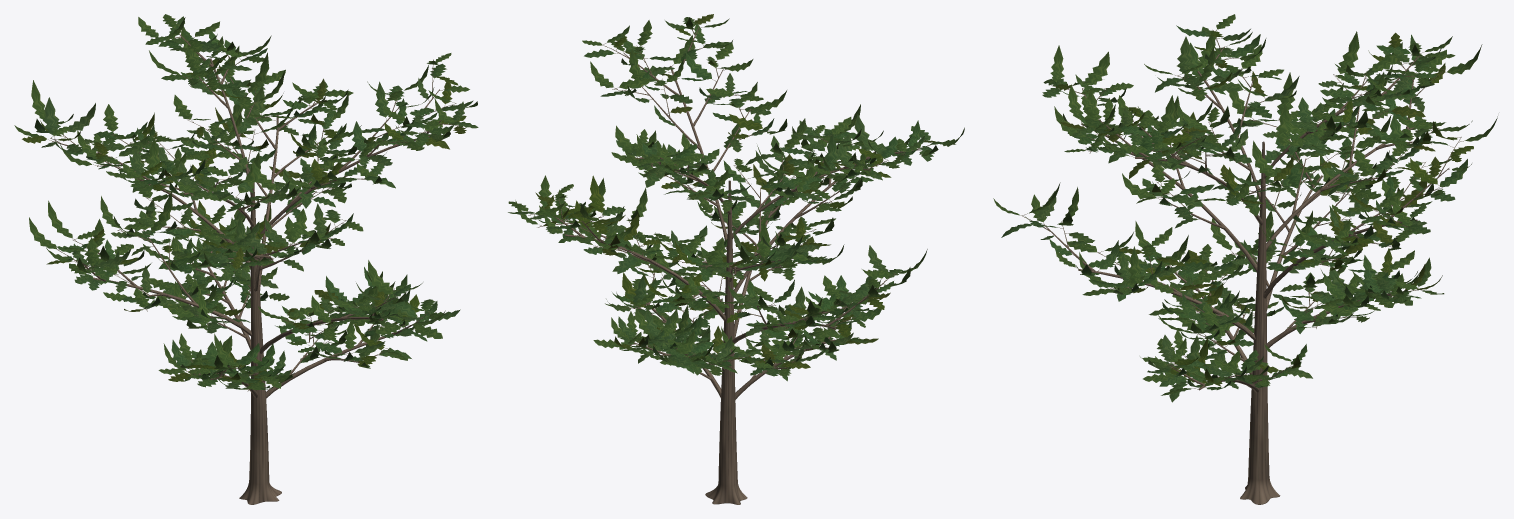
The model's file is m-oak.glb.
3 views of the same model, side by side, from view 1: azimuth 30°, elevation 25°; view 2: azimuth 150°, elevation 25°; view 3: azimuth 270°, elevation 25° (orthographic). The views are drawn at different scales.
Visible parts, largest first — view 1: Foliage, Bark; view 2: Foliage, Bark; view 3: Foliage, Bark.
Boxes of the visible parts, x1=… form: Foliage: x1=14, y1=14, x2=478, y2=390; Bark: x1=48, y1=29, x2=458, y2=504; Foliage: x1=508, y1=14, x2=964, y2=381; Bark: x1=528, y1=27, x2=931, y2=504; Foliage: x1=993, y1=14, x2=1497, y2=402; Bark: x1=1021, y1=30, x2=1463, y2=504.
Bounding box in the file's own units: 2.19 × 2.4 × 2.43.
Materials: 2 (2 with a texture image).
